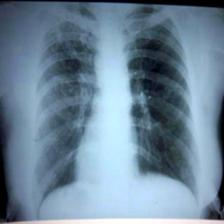tuberculosis: (29, 5, 205, 219)
